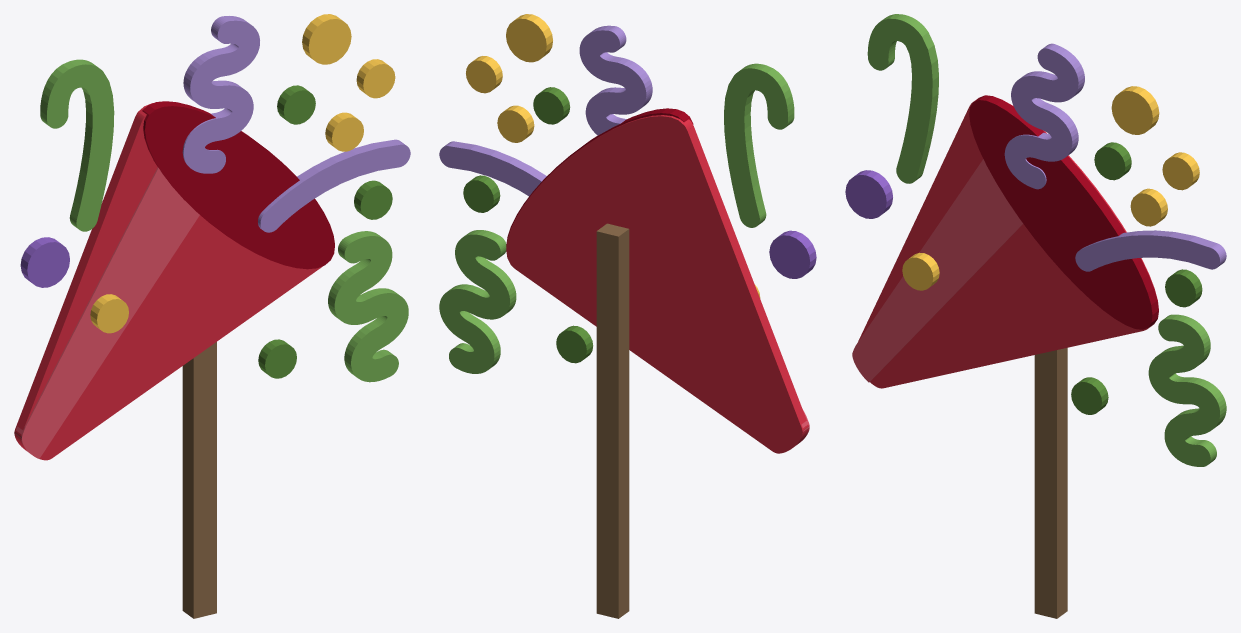
File: fete.glb
3 renders of one model, left to right at view 1: azimuth 30°, elevation 25°; view 2: azimuth 150°, elevation 25°; view 3: azimuth 330°, elevation 25°, orthographic. The views are drawn at different scales.
Bounding box in the file's own units: 1 × 1.48 × 0.141.
